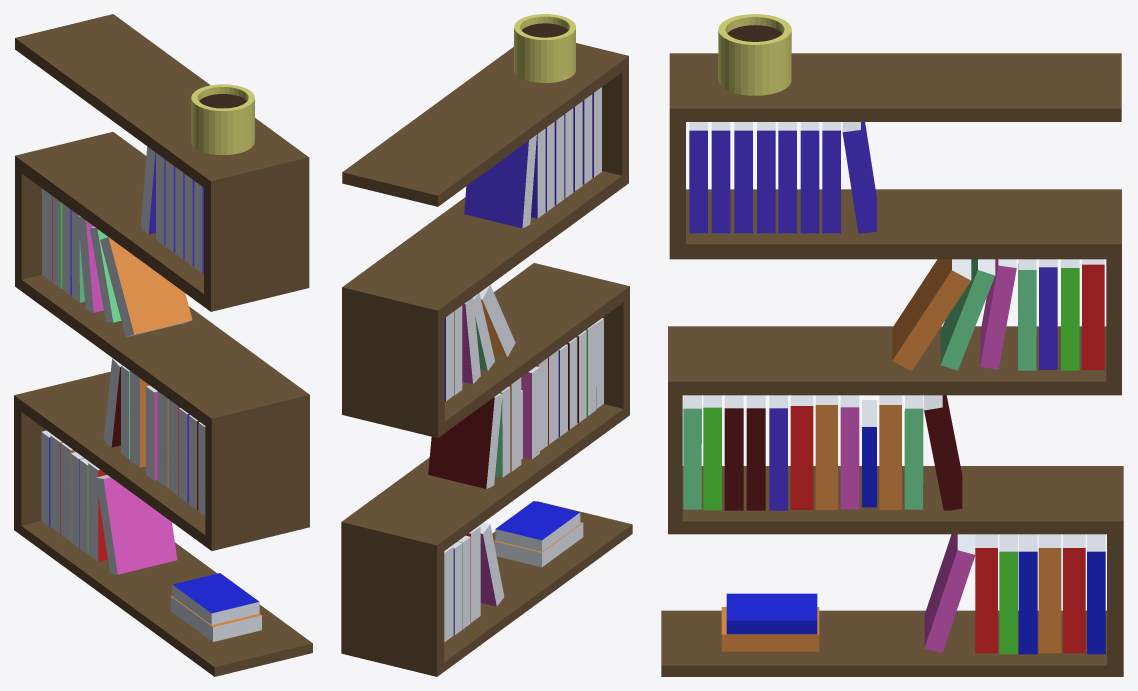
File: bookshelf.glb
3 renders of one model, left to right at view 1: azimuth 30°, elevation 25°; view 2: azimuth 150°, elevation 25°; view 3: azimuth 270°, elevation 25°, orthographic. The views are drawn at different scales.
Parts seen in each view (by area): view 1: Bookshelf, Book7, Book28, Cylinder, Book9, Book8, Book19, Book26, Book6, Book27, Book21, Book17 (+21 smaller); view 2: Bookshelf, Book21, Book36, Cylinder, Book9, Book17, Book7, Book8, Book28, Book26, Book20, Book19 (+21 smaller); view 3: Bookshelf, Cylinder, Book28, Book9, Book7, Book27, Book21, Book3, Book2, Book6, Book15, Book36 (+26 smaller).
Part boxes in pixels (x1,y1,x2,y2): Bookshelf: [14, 14, 312, 676]; Book7: [96, 475, 177, 574]; Book28: [100, 237, 192, 336]; Cylinder: [191, 84, 254, 155]; Book9: [172, 573, 259, 624]; Book8: [170, 596, 261, 641]; Book19: [130, 371, 149, 467]; Book26: [78, 215, 103, 312]; Book6: [88, 462, 107, 561]; Book27: [90, 226, 121, 322]; Book21: [103, 358, 121, 447]; Book17: [146, 385, 157, 480]; Bookshelf: [341, 43, 632, 676]; Book21: [428, 393, 502, 488]; Book36: [464, 135, 536, 228]; Cylinder: [514, 14, 575, 82]; Book9: [495, 501, 580, 551]; Book17: [521, 366, 539, 459]; Book7: [478, 522, 504, 606]; Book8: [494, 522, 583, 567]; Book28: [479, 285, 515, 356]; Book26: [462, 297, 480, 384]; Book20: [495, 386, 510, 477]; Book19: [509, 377, 521, 471]; Bookshelf: [661, 53, 1123, 676]; Cylinder: [718, 14, 791, 95]; Book28: [892, 259, 971, 370]; Book9: [726, 593, 817, 634]; Book7: [924, 534, 975, 652]; Book27: [940, 259, 995, 370]; Book21: [924, 395, 962, 510]; Book3: [1038, 534, 1061, 653]; Book2: [1063, 534, 1085, 653]; Book6: [975, 534, 997, 653]; Book15: [790, 395, 813, 509]; Book36: [842, 122, 876, 233].
Bounding box in the file's own units: 2 × 10.45 × 7.07.
